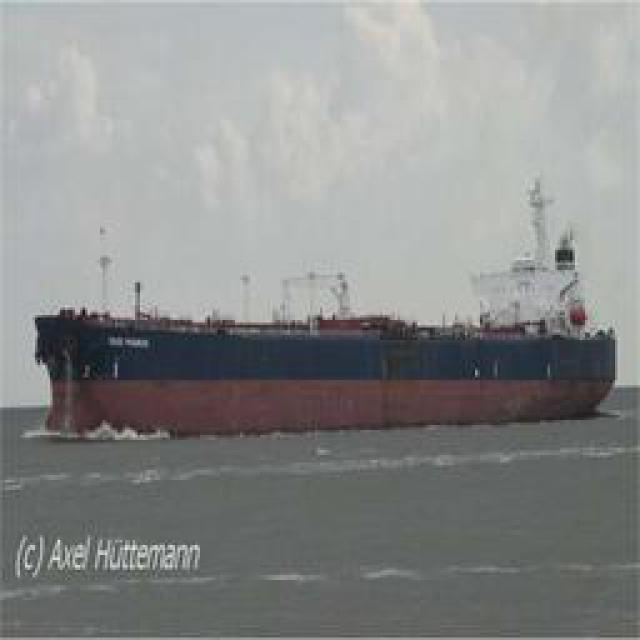Ship: (24, 272, 624, 442)
